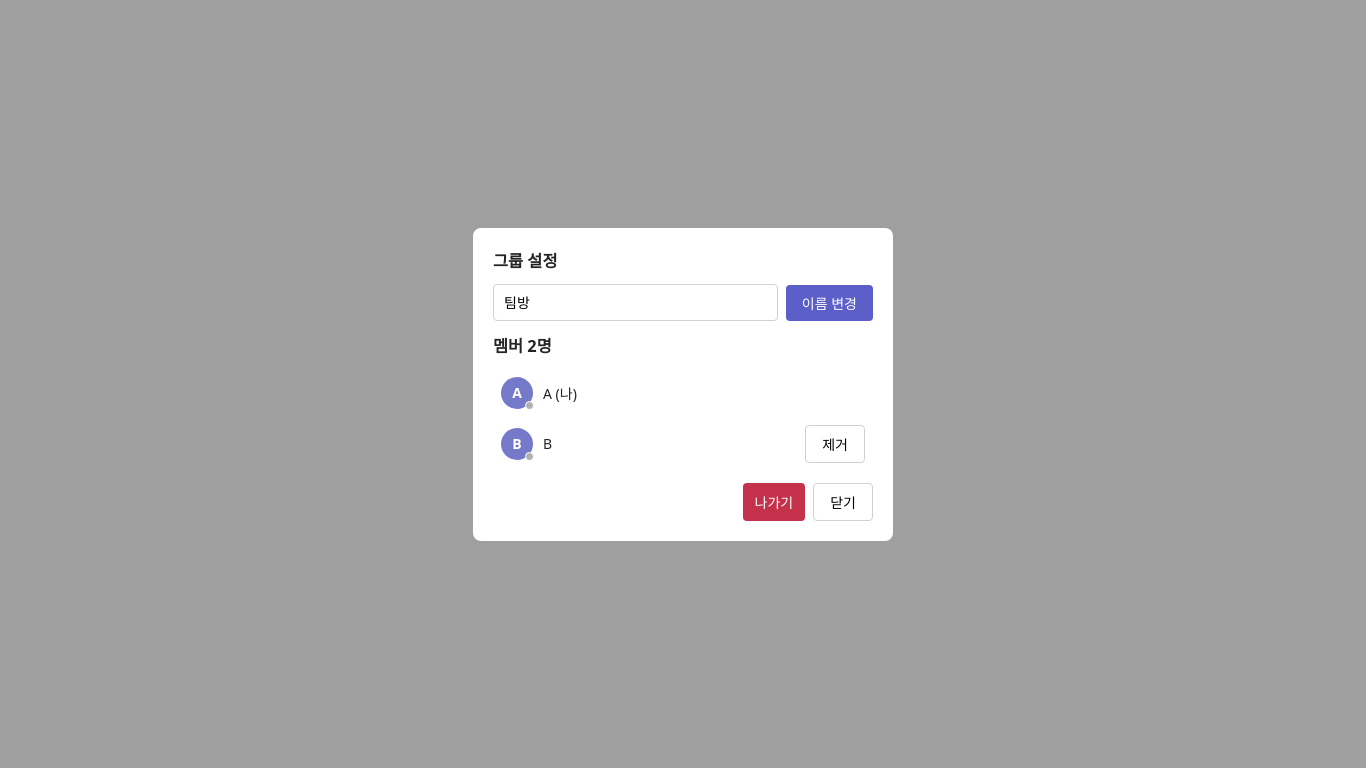
뮤테이션 실패 피드백 › 그룹 관리 실패 시 다이얼로그에 실패 문구를 보여준다
Click the button "이름 변경": (829, 302) [786,284,873,320]
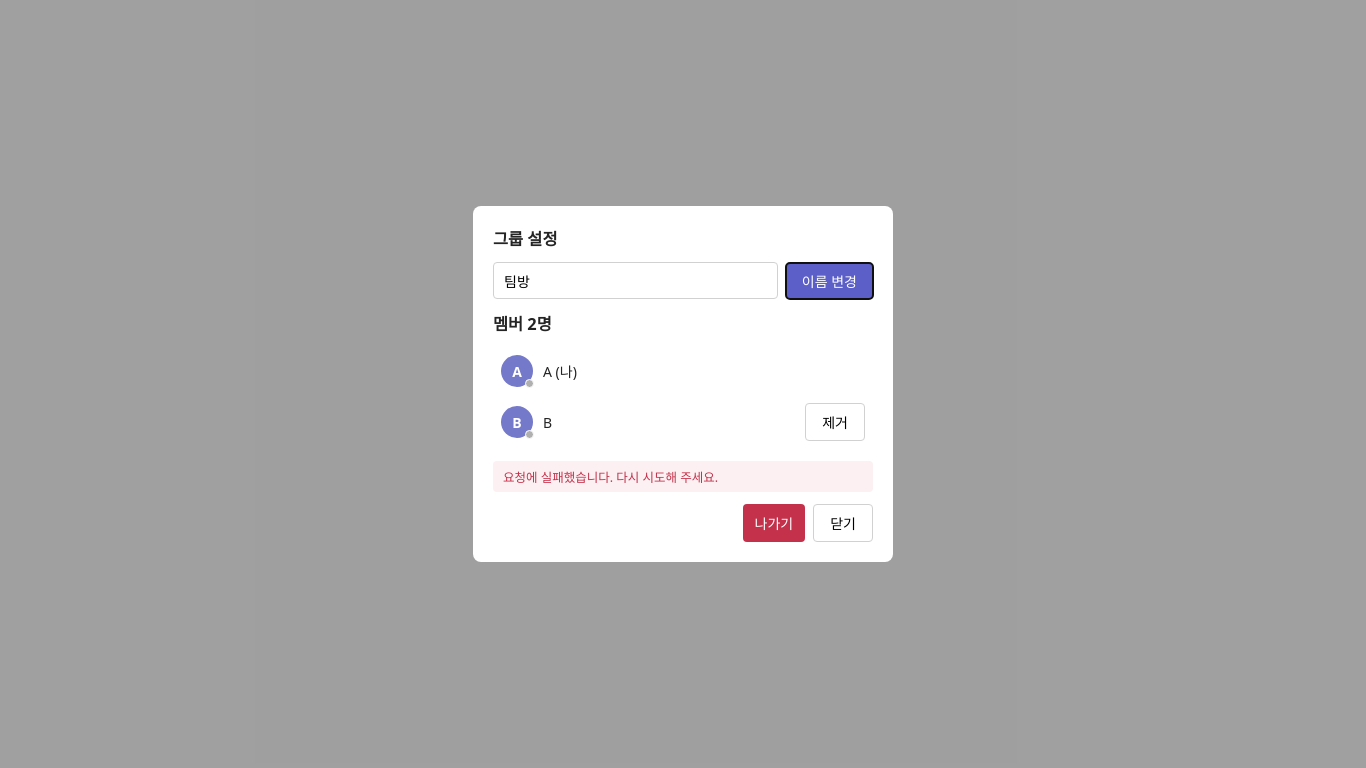
Expected: the text "요청에 실패했습니다. 다시 시도해 주세요." is shown, [503,467,718,486]
